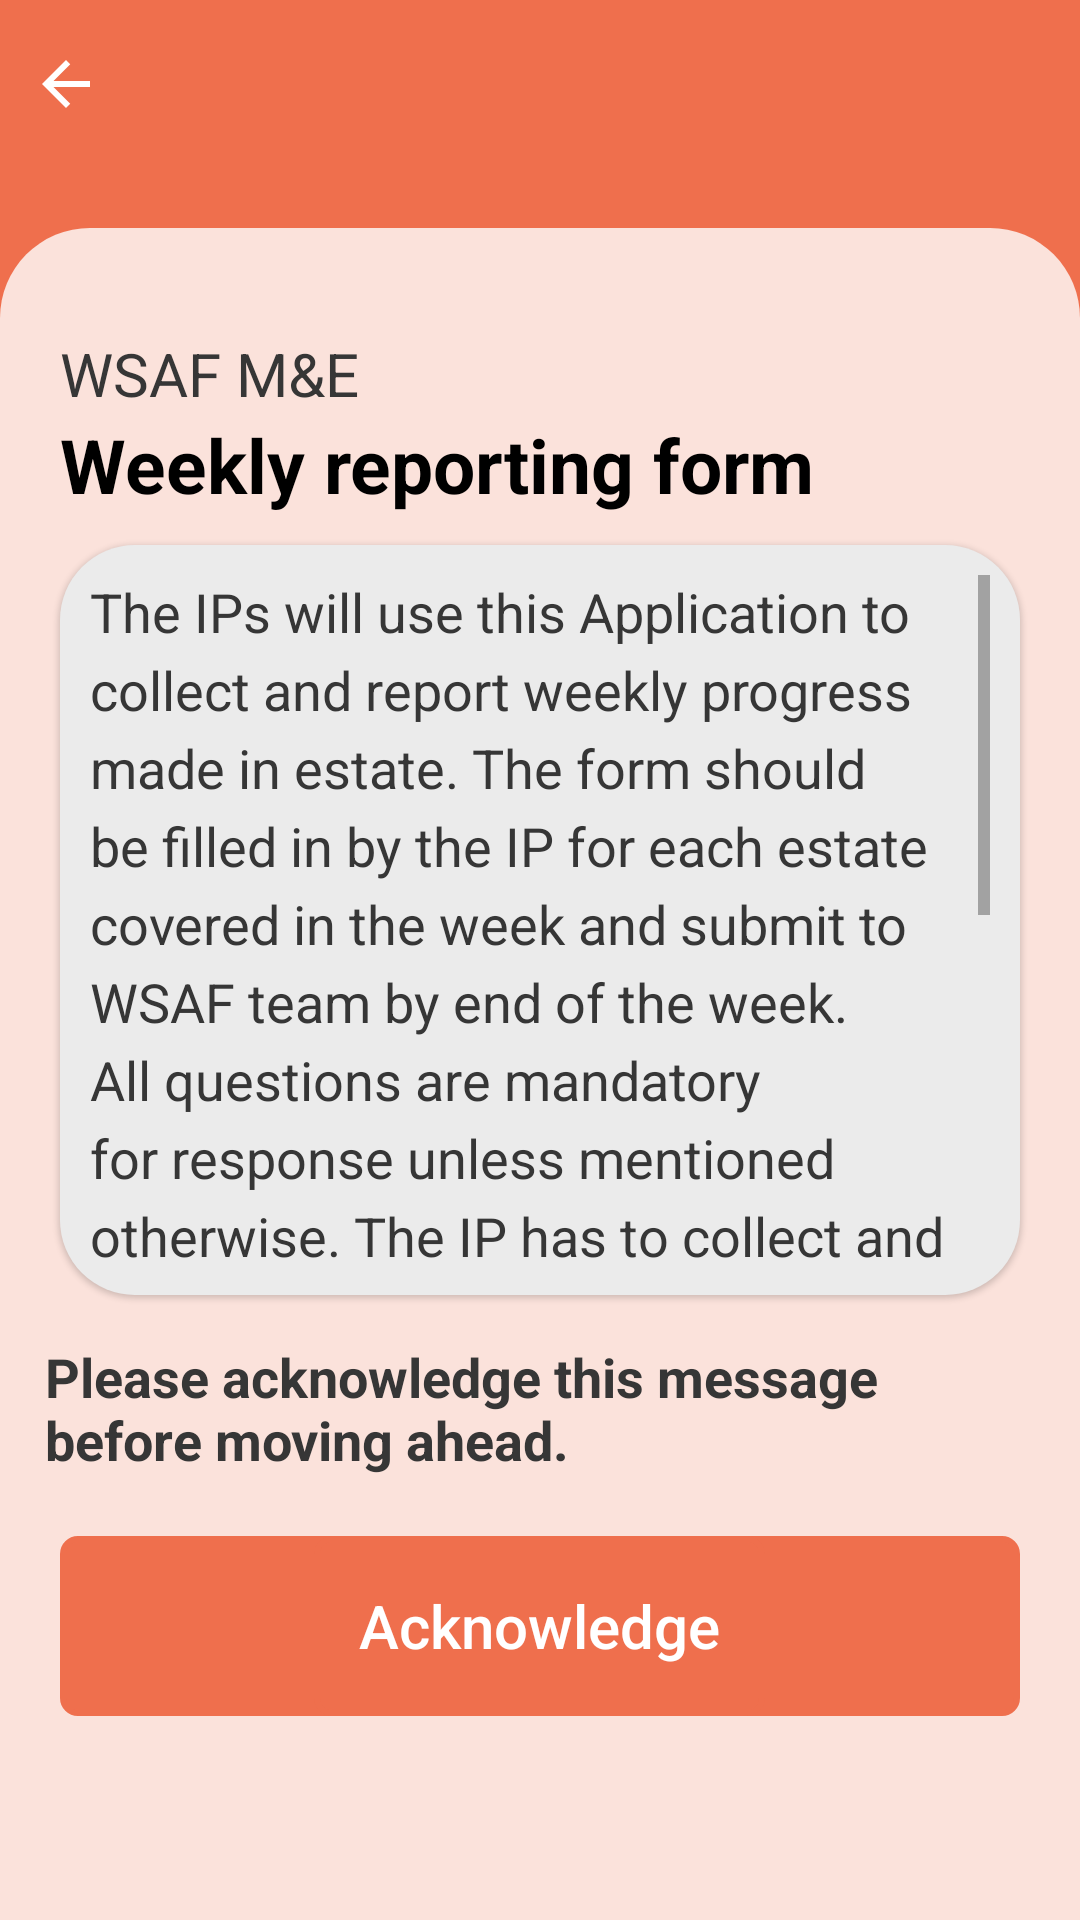

Icon bounding boxes for this 1080px x 1920px phone screenshot, format box=[x1, y1, x2, y2]:
arrow back: box=[42, 60, 90, 108]
